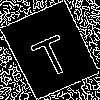T: (25, 25, 76, 80)
